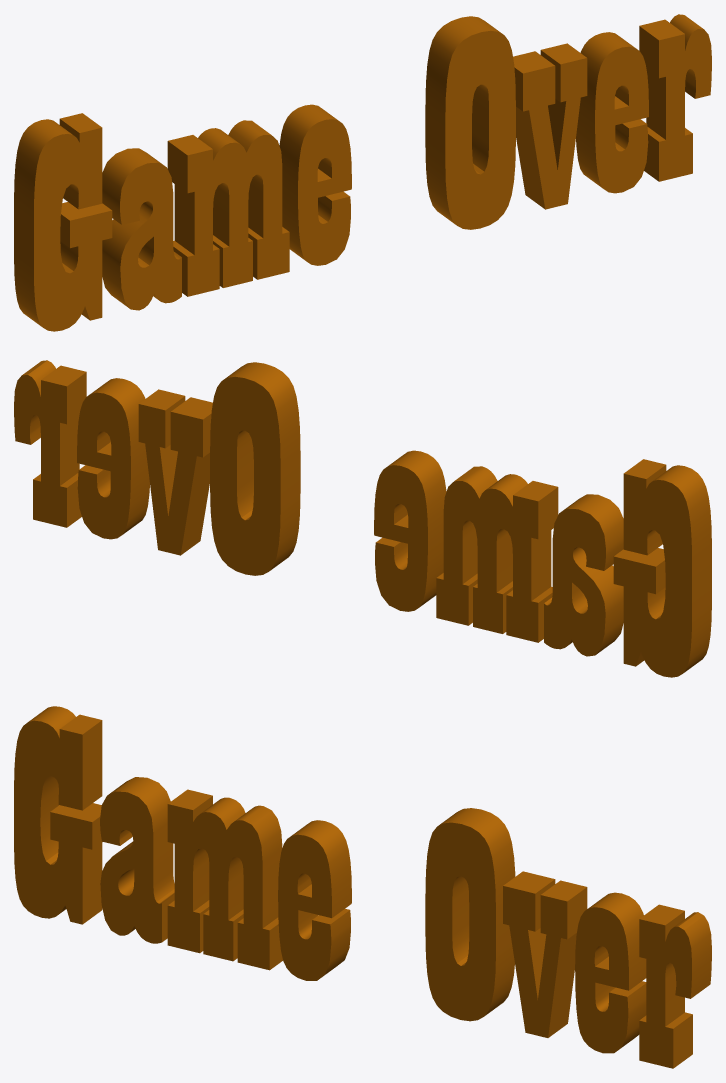
The model's file is GameOverText2.fbx.
The picture shows the model from 3 angles, top to bottom: view 1: azimuth 30°, elevation 25°; view 2: azimuth 150°, elevation 25°; view 3: azimuth 330°, elevation 25°; orthographic projection.
Parts seen in each view (by area): view 1: typeMesh6; view 2: typeMesh6; view 3: typeMesh6.
Part boxes in pixels (left/top/right/bottom): typeMesh6: left=14, top=14, right=711, bottom=331; typeMesh6: left=14, top=360, right=711, bottom=677; typeMesh6: left=14, top=706, right=711, bottom=1068.
Bounding box in the file's own units: 19.5 × 5.39 × 0.9895.
